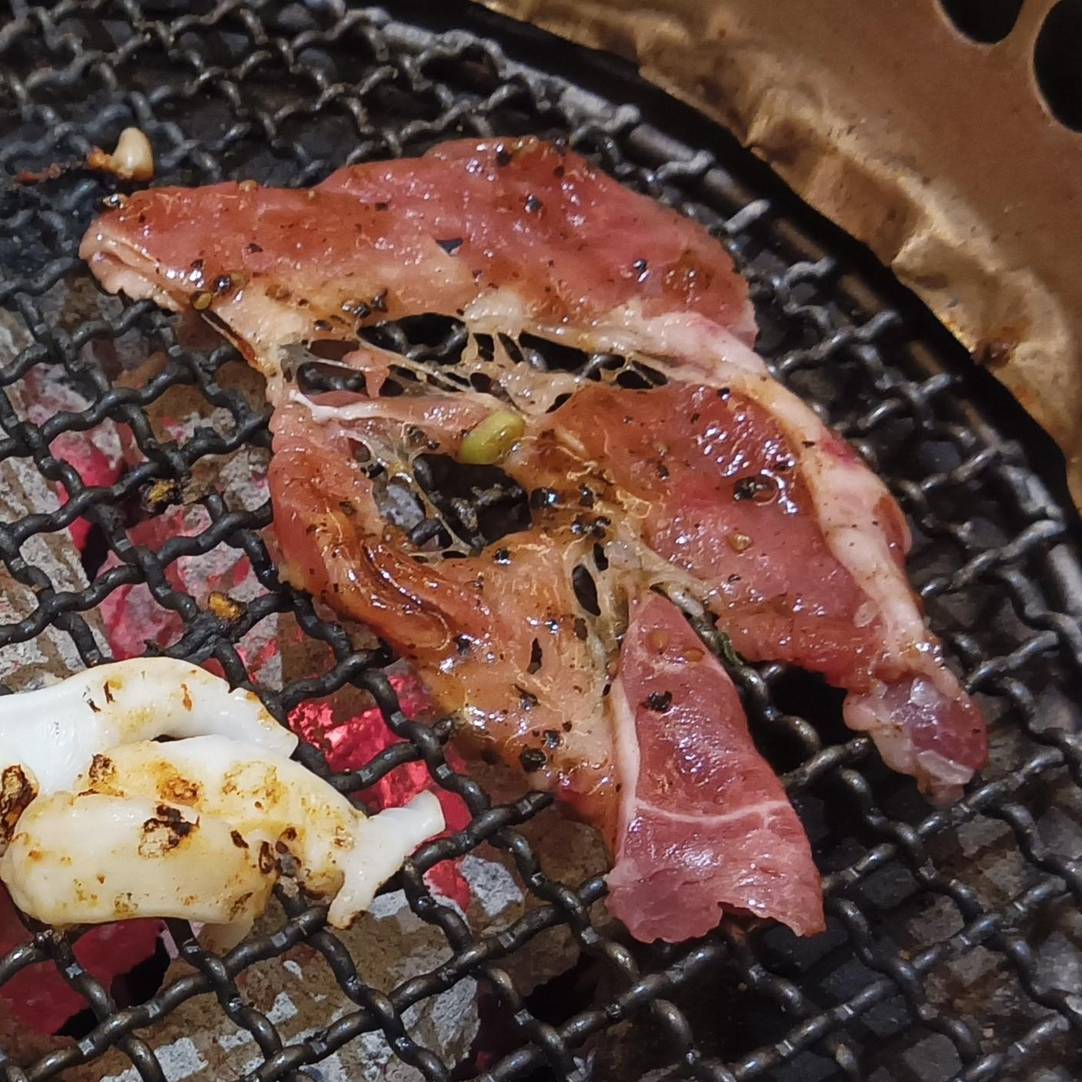Undercooked: (78, 139, 992, 947)
